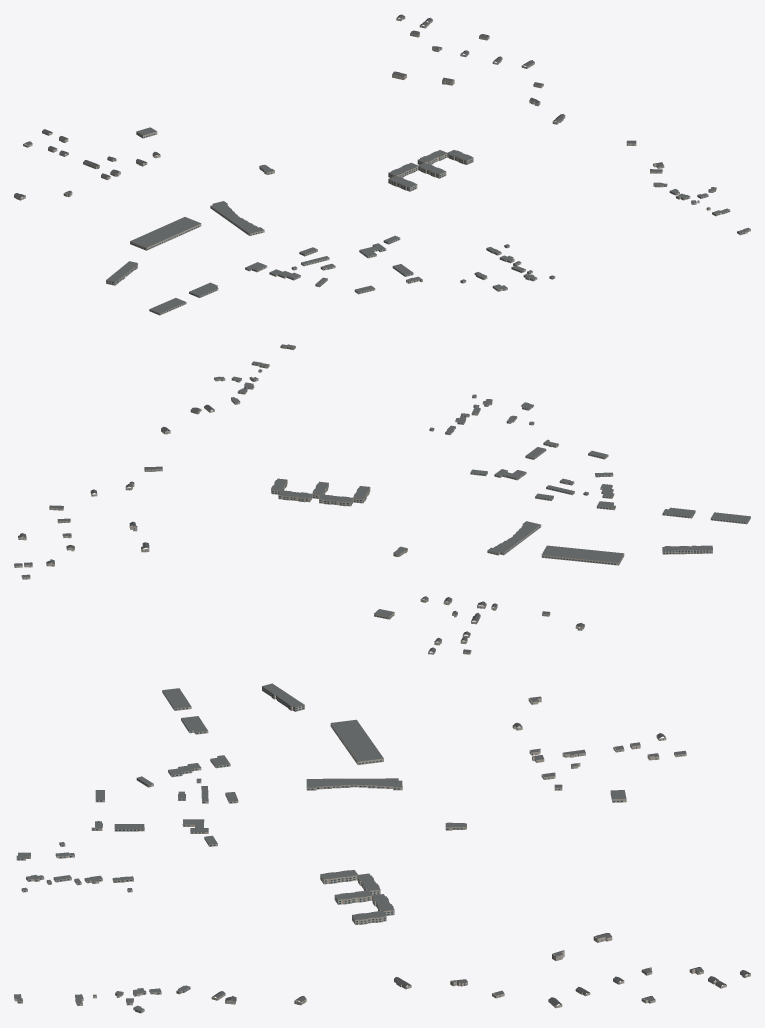
The picture shows the model from 3 angles, top to bottom: view 1: azimuth 30°, elevation 25°; view 2: azimuth 150°, elevation 25°; view 3: azimuth 270°, elevation 25°; orthographic projection. The views are drawn at different scales.
Visible parts, largest first — view 1: Buildings (-1, -2) Roof membrane, Buildings (-1, -2) Masonry brick, Buildings (-1, -2) Architectural tinted glass, Buildings (-1, -2) Roof shingles; view 2: Buildings (-1, -2) Roof membrane, Buildings (-1, -2) Masonry brick, Buildings (-1, -2) Architectural tinted glass, Buildings (-1, -2) Roof shingles; view 3: Buildings (-1, -2) Roof membrane, Buildings (-1, -2) Masonry brick, Buildings (-1, -2) Roof shingles, Buildings (-1, -2) Architectural tinted glass.
Boxes of the visible parts, x1=… form: Buildings (-1, -2) Roof membrane: x1=106, y1=127, x2=750, y2=313; Buildings (-1, -2) Masonry brick: x1=14, y1=17, x2=750, y2=315; Buildings (-1, -2) Architectural tinted glass: x1=14, y1=19, x2=748, y2=314; Buildings (-1, -2) Roof shingles: x1=14, y1=14, x2=663, y2=197; Buildings (-1, -2) Roof membrane: x1=214, y1=344, x2=750, y2=616; Buildings (-1, -2) Masonry brick: x1=14, y1=346, x2=750, y2=654; Buildings (-1, -2) Architectural tinted glass: x1=15, y1=346, x2=750, y2=653; Buildings (-1, -2) Roof shingles: x1=14, y1=404, x2=584, y2=652; Buildings (-1, -2) Roof membrane: x1=14, y1=683, x2=626, y2=1010; Buildings (-1, -2) Masonry brick: x1=14, y1=686, x2=750, y2=1013; Buildings (-1, -2) Roof shingles: x1=212, y1=696, x2=749, y2=1005; Buildings (-1, -2) Architectural tinted glass: x1=17, y1=687, x2=748, y2=1012.
Bounding box in the file's own units: 1037 × 14.68 × 995.
